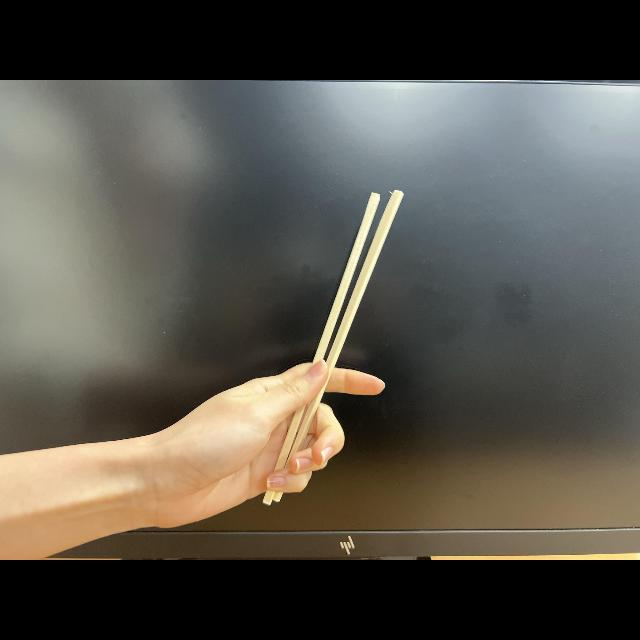stick: (164, 186, 404, 528)
